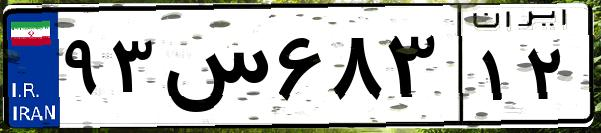1: (475, 38, 525, 113)
2: (525, 38, 570, 115)
3: (385, 28, 445, 110), (110, 28, 158, 98)
6: (270, 28, 330, 110)
8: (330, 28, 385, 110)
9: (57, 26, 110, 100)
س: (158, 20, 270, 120)
